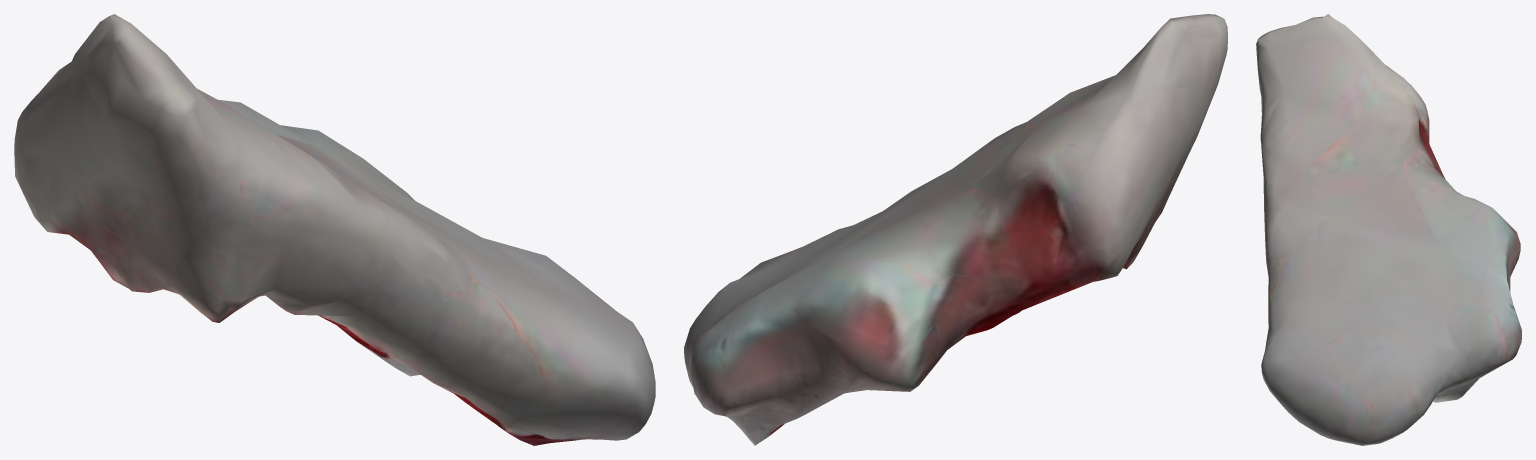
File: hall.glb
The picture shows the model from 3 angles, left to right: view 1: azimuth 30°, elevation 25°; view 2: azimuth 150°, elevation 25°; view 3: azimuth 270°, elevation 25°; orthographic projection. The views are drawn at different scales.
Size of the model in its own units: 0.2535 by 0.2406 by 0.1916.
Materials: 1 (1 with a texture image).
